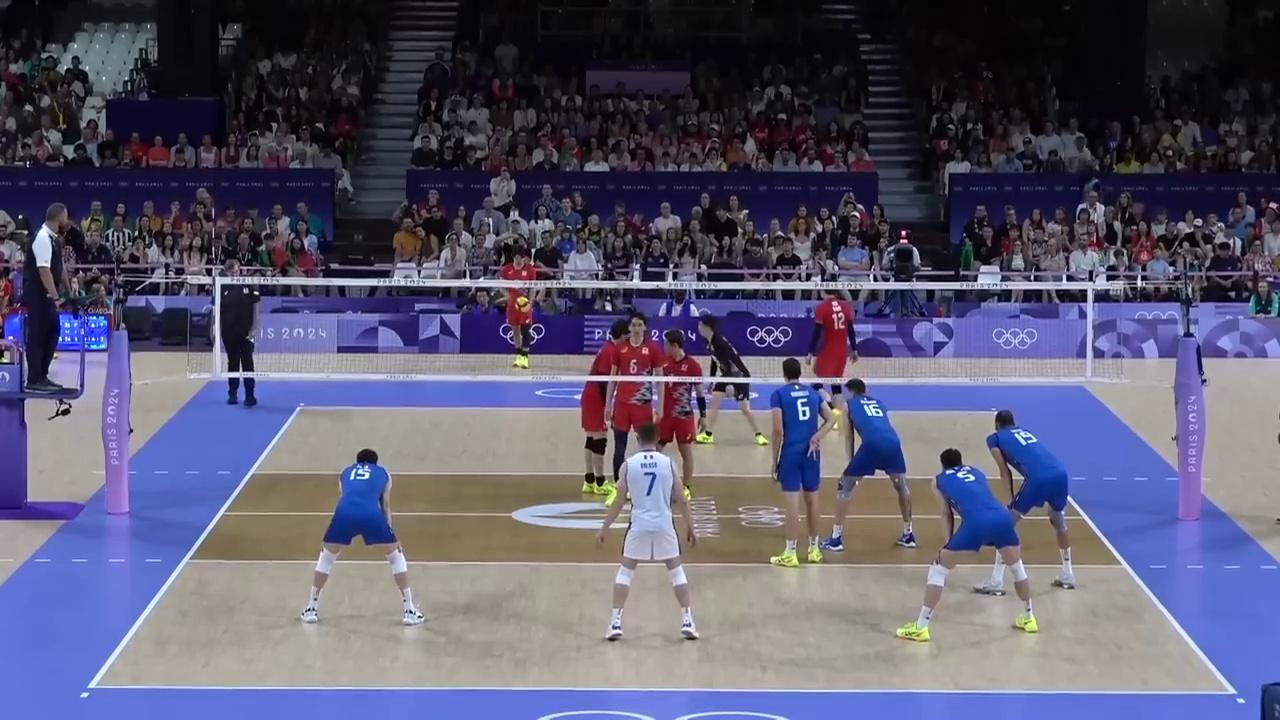ball: (516, 298, 533, 313)
